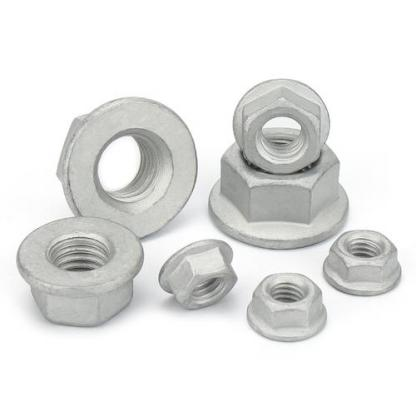FOD: (55, 92, 195, 243), (205, 124, 352, 250), (15, 216, 146, 328), (231, 76, 331, 174), (154, 238, 238, 312), (320, 226, 406, 297), (244, 270, 328, 342)
